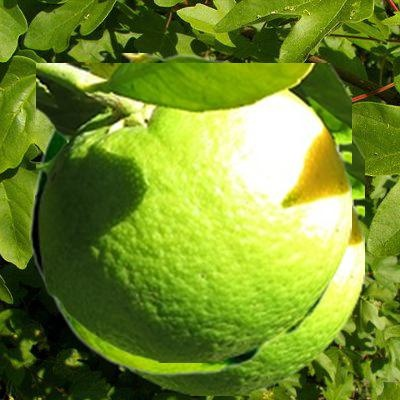dalandan: (29, 53, 335, 375), (36, 63, 350, 361), (124, 129, 363, 394)
